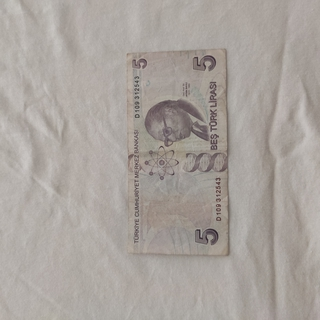5TLBack: (125, 47, 230, 257)
